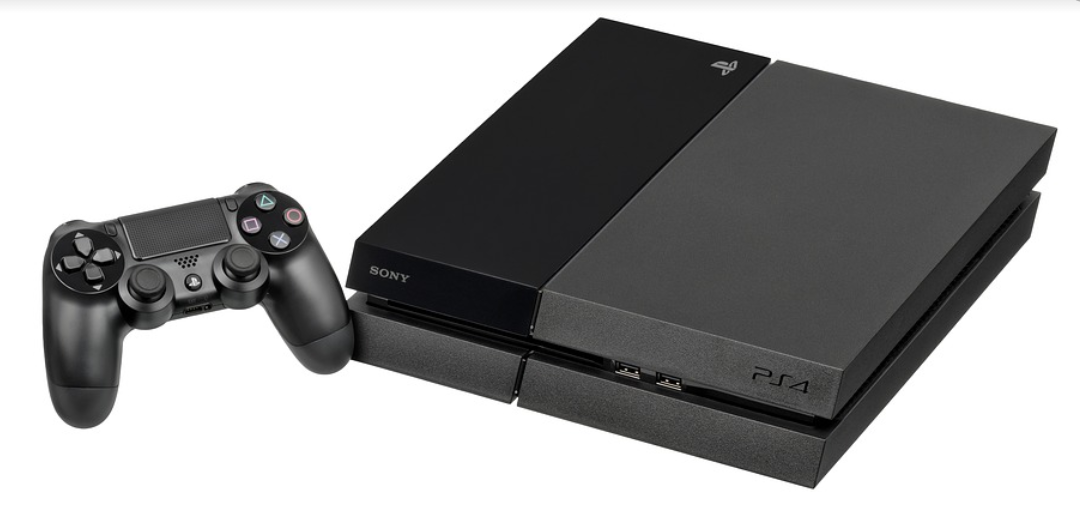gamingconsole: (45, 184, 356, 429)
